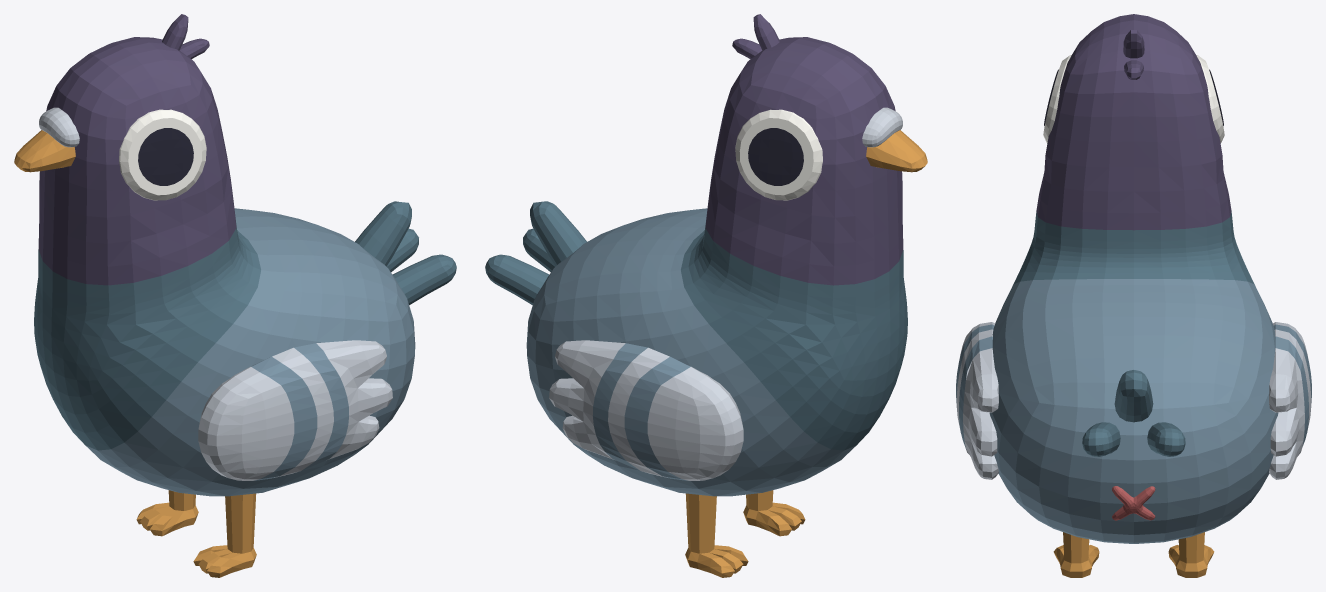
The model's file is Pigeon_LOD0.fbx.
3 renders of one model, left to right at view 1: azimuth 30°, elevation 25°; view 2: azimuth 150°, elevation 25°; view 3: azimuth 270°, elevation 25°, orthographic.
Parts seen in each view (by area): view 1: Mesh; view 2: Mesh; view 3: Mesh.
Boxes of the visible parts, box(x1,y1,x2,y2) form: Mesh: box(14, 14, 456, 577); Mesh: box(485, 14, 927, 577); Mesh: box(956, 14, 1311, 577).
Bounding box in the file's own units: 169 × 206 × 125.
1 material, 1 textured.
